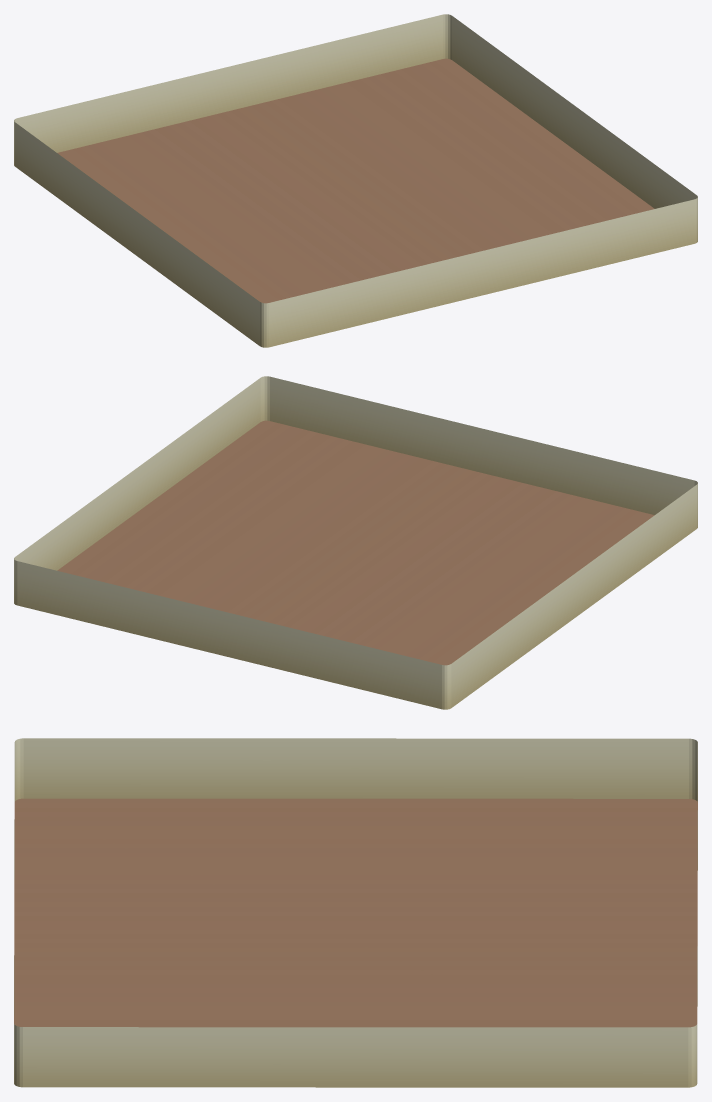
Rendered from GunCraftingWorkspace.fbx.
3 views of the same model, one above another, from view 1: azimuth 30°, elevation 25°; view 2: azimuth 150°, elevation 25°; view 3: azimuth 270°, elevation 25° (orthographic). The views are drawn at different scales.
Visible parts, largest first — view 1: GunCraftingWorkspace; view 2: GunCraftingWorkspace; view 3: GunCraftingWorkspace.
Boxes of the visible parts, x1,y1,x2,y2 form: GunCraftingWorkspace: (14, 14, 697, 347); GunCraftingWorkspace: (14, 376, 697, 709); GunCraftingWorkspace: (14, 738, 697, 1087).
Bounding box in the file's own units: 10.02 × 0.974 × 10.02.
1 material, 1 textured.
